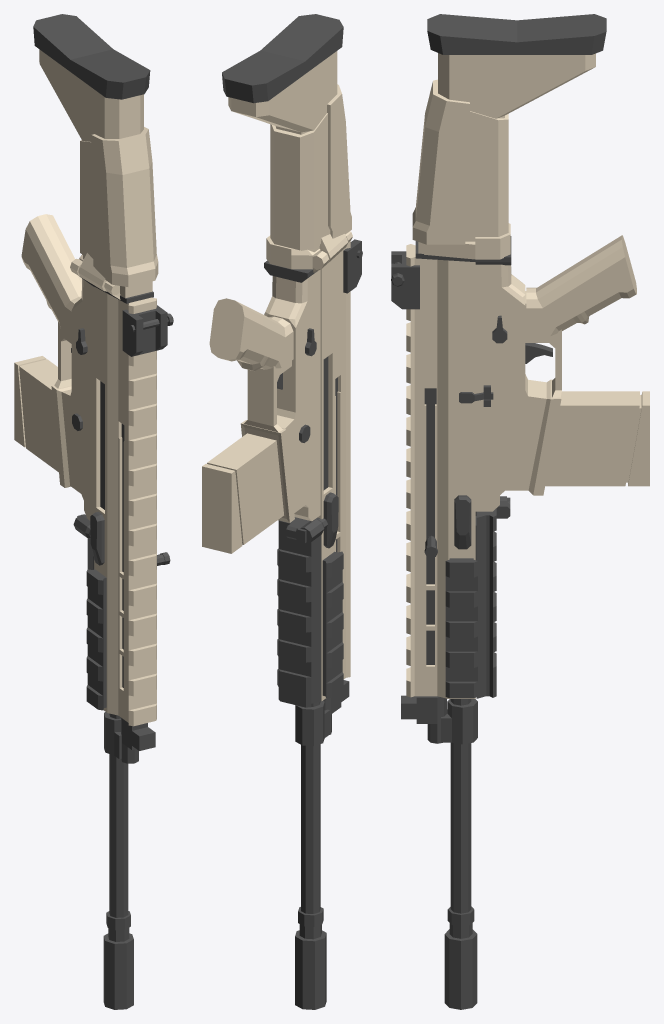
File: scar.glb
3 views of the same model, side by side, from view 1: azimuth 30°, elevation 25°; view 2: azimuth 150°, elevation 25°; view 3: azimuth 270°, elevation 25° (orthographic). The views are drawn at different scales.
Parts seen in each view (by area): view 1: Cube, Cube.010, Cube.001, Cylinder, Cube.022, Cube.008, Cube.002, Cube.004, Cube.013, Cube.015, Cylinder.001, Cube.009 (+6 smaller); view 2: Cube.001, Cube, Cube.004, Cube.012, Cube.009, Cylinder, Cube.022, Cube.002, Cube.008, Cube.013, Cube.010, Cube.003 (+9 smaller); view 3: Cube, Cube.001, Cube.004, Cube.010, Cube.008, Cylinder, Cube.022, Cube.002, Cube.009, Cube.013, Cube.012, Cylinder.001 (+6 smaller).
Part boxes in pixels (left/top/right/bottom): Cube: left=94, top=287, right=156, bottom=726; Cube.010: left=91, top=127, right=158, bottom=287; Cube.001: left=51, top=278, right=94, bottom=520; Cylinder: left=103, top=713, right=133, bottom=1009; Cube.022: left=33, top=14, right=150, bottom=99; Cube.008: left=39, top=49, right=143, bottom=259; Cube.002: left=21, top=214, right=81, bottom=338; Cube.004: left=14, top=356, right=58, bottom=472; Cube.013: left=86, top=569, right=106, bottom=710; Cube.015: left=122, top=305, right=167, bottom=356; Cylinder.001: left=104, top=712, right=155, bottom=763; Cube.009: left=80, top=140, right=93, bottom=258; Cube.001: left=240, top=269, right=320, bottom=522; Cube: left=317, top=241, right=350, bottom=701; Cube.004: left=202, top=433, right=283, bottom=553; Cube.012: left=278, top=517, right=321, bottom=707; Cube.009: left=270, top=113, right=330, bottom=250; Cylinder: left=295, top=702, right=326, bottom=1009; Cube.022: left=222, top=14, right=343, bottom=103; Cube.002: left=209, top=298, right=293, bottom=371; Cube.008: left=228, top=51, right=337, bottom=252; Cube.013: left=277, top=548, right=343, bottom=698; Cube.010: left=327, top=84, right=351, bottom=238; Cube.003: left=244, top=361, right=291, bottom=432; Cube: left=406, top=244, right=475, bottom=698; Cube.001: left=475, top=264, right=561, bottom=511; Cube.004: left=545, top=391, right=649, bottom=486; Cube.010: left=412, top=79, right=469, bottom=244; Cube.008: left=438, top=53, right=595, bottom=241; Cylinder: left=444, top=699, right=477, bottom=1009; Cube.022: left=427, top=14, right=606, bottom=54; Cube.002: left=526, top=235, right=636, bottom=336; Cube.009: left=465, top=111, right=508, bottom=236; Cube.013: left=445, top=558, right=477, bottom=698; Cube.012: left=475, top=509, right=496, bottom=698; Cylinder.001: left=401, top=695, right=477, bottom=744.
Size of the model in its own units: 0.0528 by 0.7275 by 0.1745.
